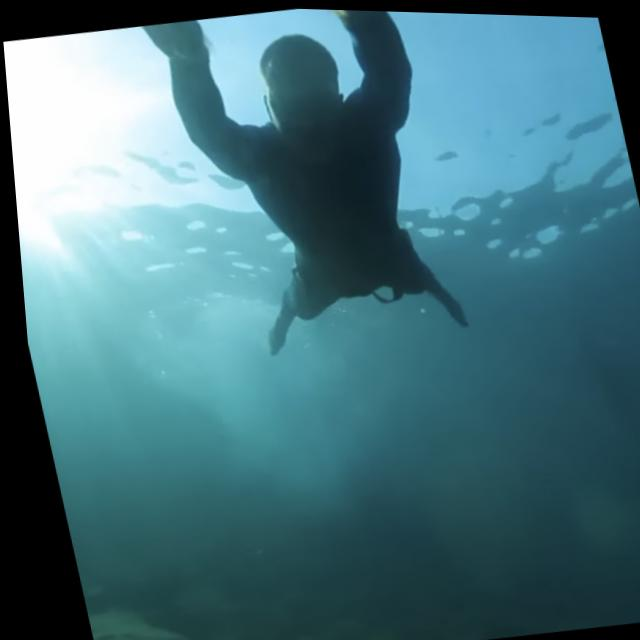human: (100, 2, 479, 381)
